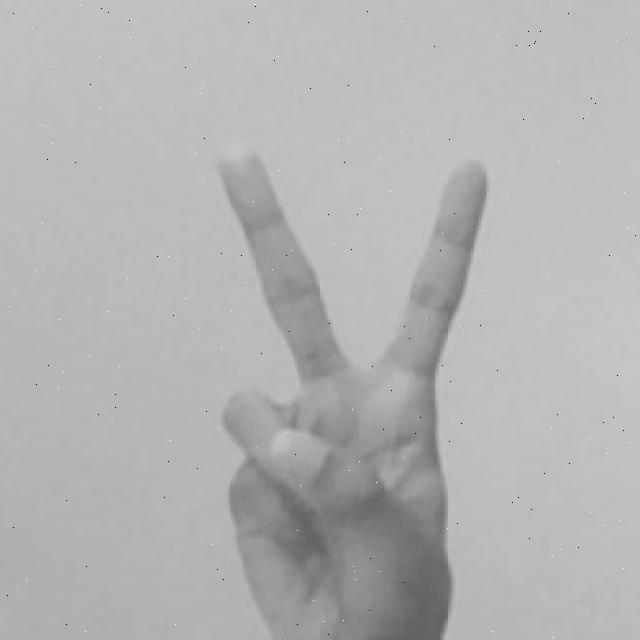V: (202, 135, 494, 640)
